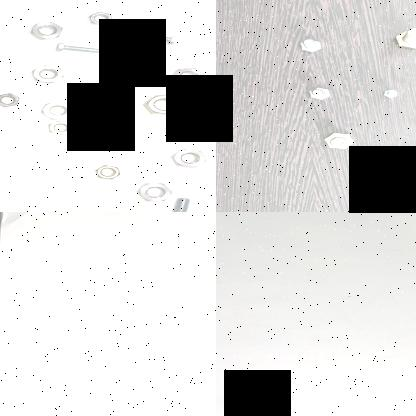Bolts: (124, 25, 178, 47), (53, 39, 109, 55), (316, 131, 357, 151), (301, 82, 332, 102), (388, 29, 416, 50), (158, 196, 193, 212), (291, 38, 323, 53), (380, 87, 400, 99)
NUTS: (140, 92, 186, 120), (167, 64, 209, 90), (134, 178, 172, 204), (25, 64, 68, 86), (170, 147, 210, 170), (27, 18, 64, 42), (38, 99, 76, 121), (133, 42, 169, 63), (89, 125, 126, 144), (96, 80, 130, 100), (89, 164, 125, 182), (86, 8, 114, 28), (193, 100, 216, 120), (0, 90, 21, 109), (45, 122, 73, 136)
